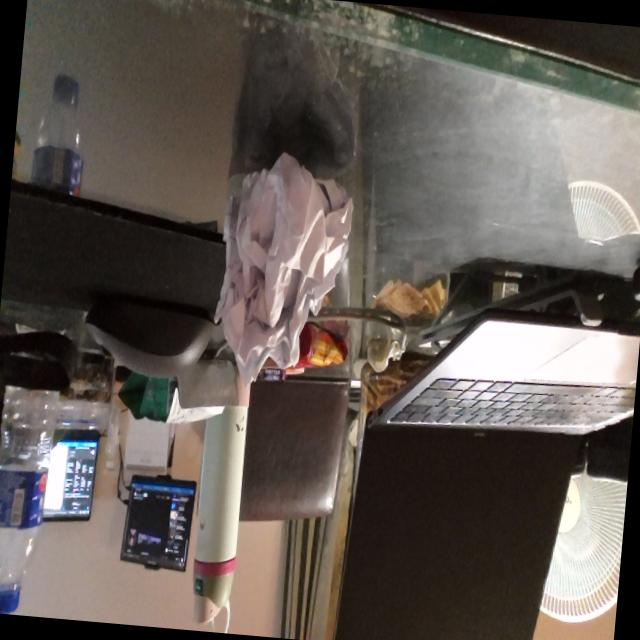crumpled_paper: (205, 144, 361, 401)
